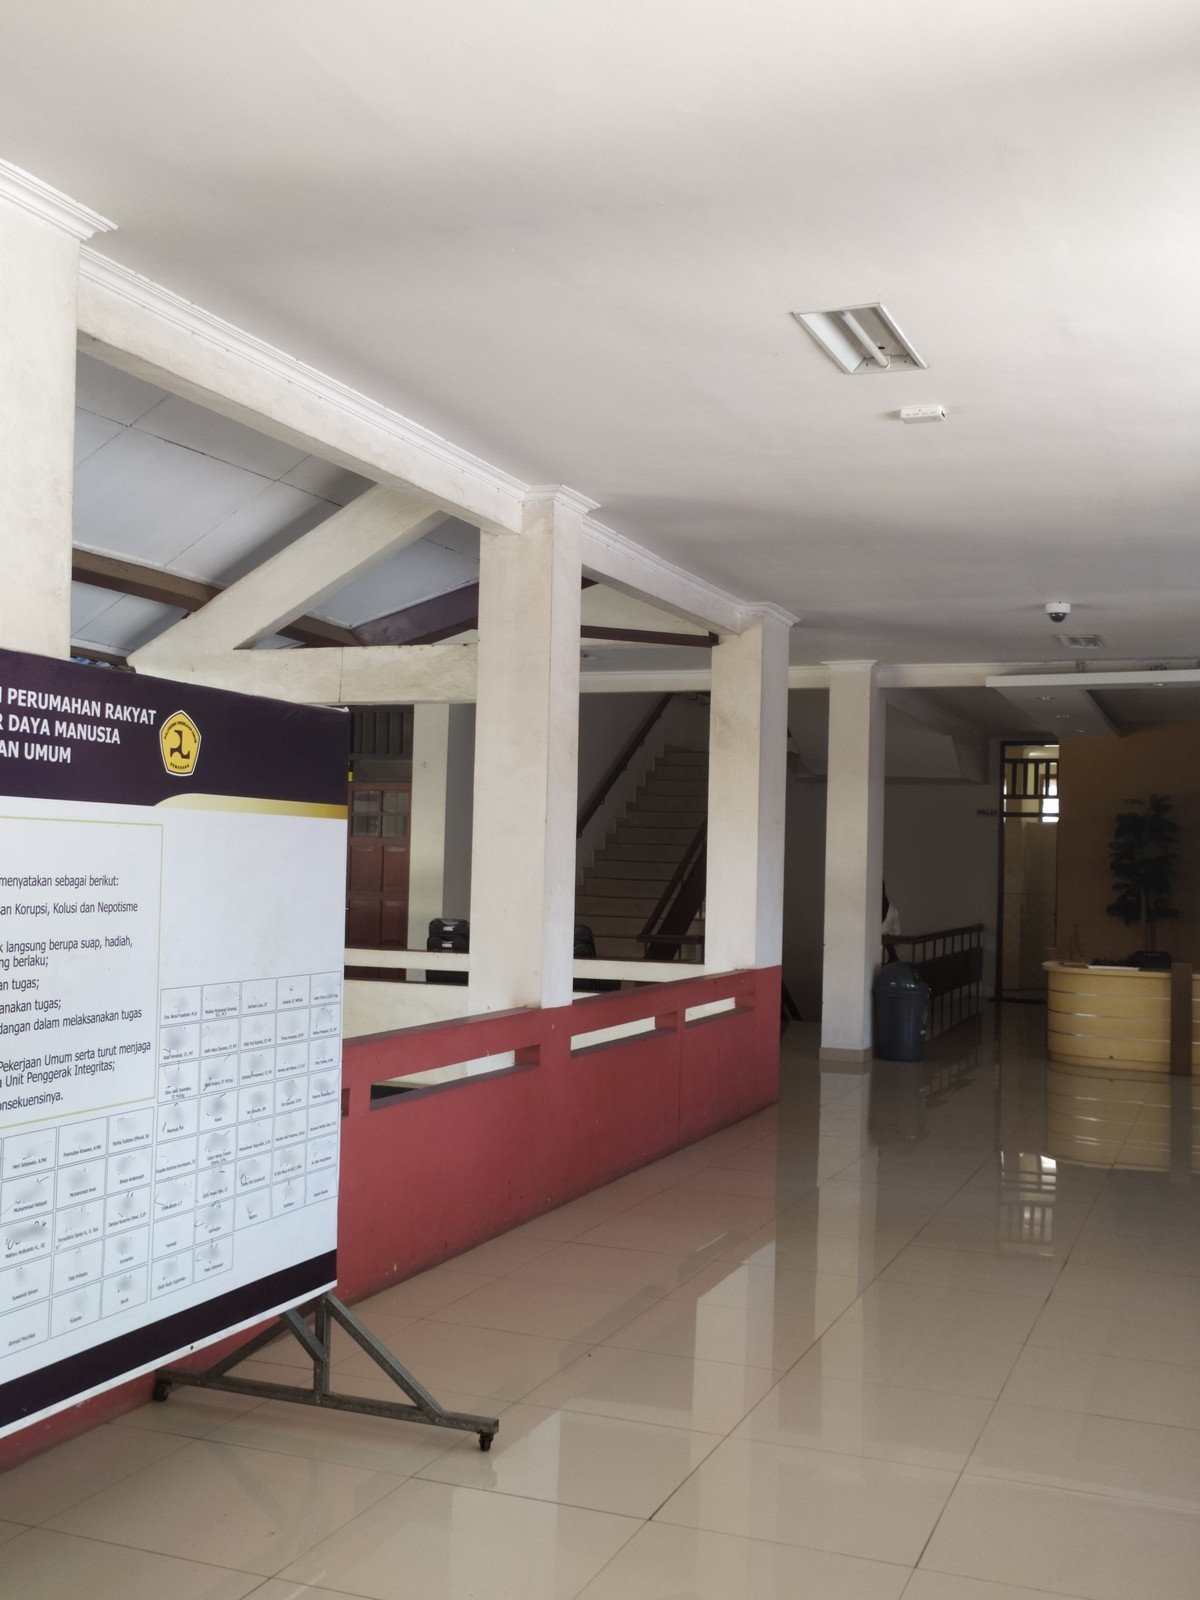concrete beam: (261, 641, 476, 711)
concrete column: (466, 517, 591, 1048), (698, 631, 787, 1017), (817, 666, 892, 1075), (406, 698, 471, 965)
